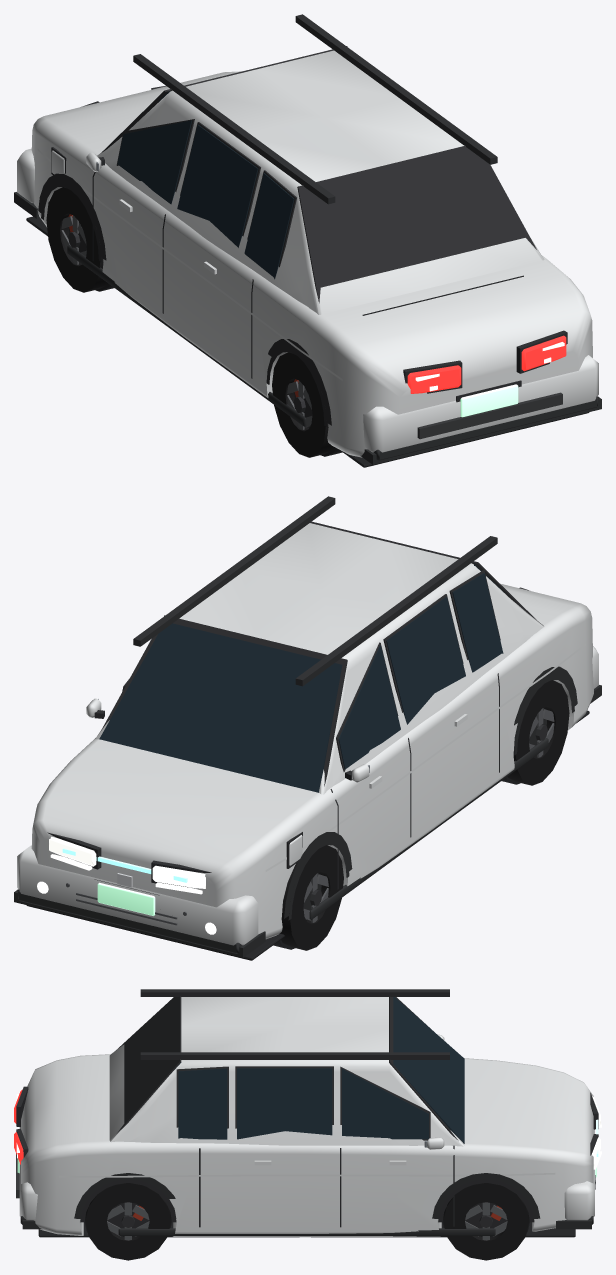
Rendered from car_nev_suv_white.glb.
3 views of the same model, one above another, from view 1: azimuth 30°, elevation 25°; view 2: azimuth 150°, elevation 25°; view 3: azimuth 270°, elevation 25° (orthographic). The views are drawn at different scales.
Visible parts, largest first — view 1: Body, Trim, Glass, Wheel_RL, Wheel_FL, Lights, Plate_R; view 2: Body, Glass, Trim, Wheel_FL, Wheel_RL, Lights, Plate_F; view 3: Body, Glass, Trim, Wheel_FR, Wheel_RR, Lights.
Part boxes in pixels (x1,y1,x2,y2): Body: (17, 50, 598, 457); Trim: (14, 14, 601, 467); Glass: (96, 91, 294, 279); Wheel_RL: (272, 352, 334, 457); Wheel_FL: (46, 187, 108, 292); Lights: (407, 335, 566, 393); Plate_R: (460, 384, 518, 417); Body: (17, 523, 598, 945); Glass: (98, 564, 503, 792); Trim: (14, 496, 601, 960); Wheel_FL: (280, 845, 343, 950); Wheel_RL: (507, 680, 569, 785); Lights: (37, 836, 216, 934); Plate_F: (97, 882, 155, 915); Body: (19, 997, 594, 1237); Glass: (171, 997, 464, 1147); Trim: (16, 989, 598, 1237); Wheel_FR: (443, 1183, 529, 1260); Wheel_RR: (85, 1183, 171, 1260); Lights: (14, 1090, 601, 1169).
Size of the model in its own units: 2.13 by 1.79 by 4.93.
